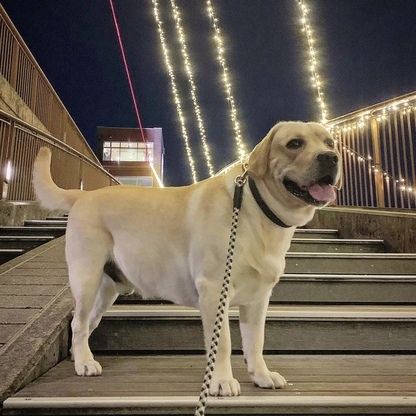labrado: (28, 118, 345, 397)
